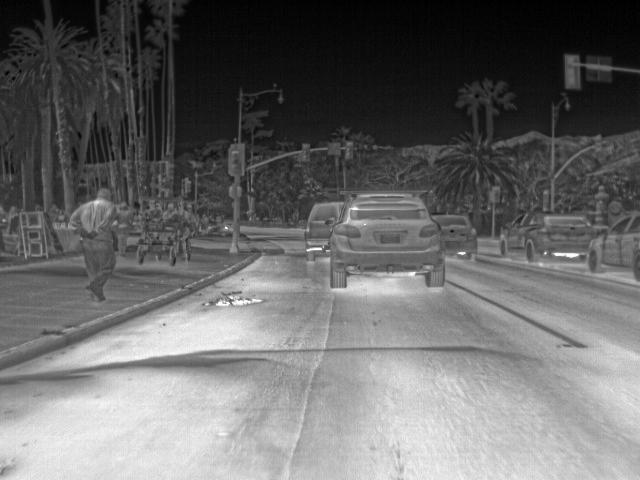car: (325, 185, 447, 287), (498, 212, 604, 261), (585, 210, 640, 285), (296, 200, 342, 260), (430, 212, 480, 260)
person: (72, 187, 122, 303)
